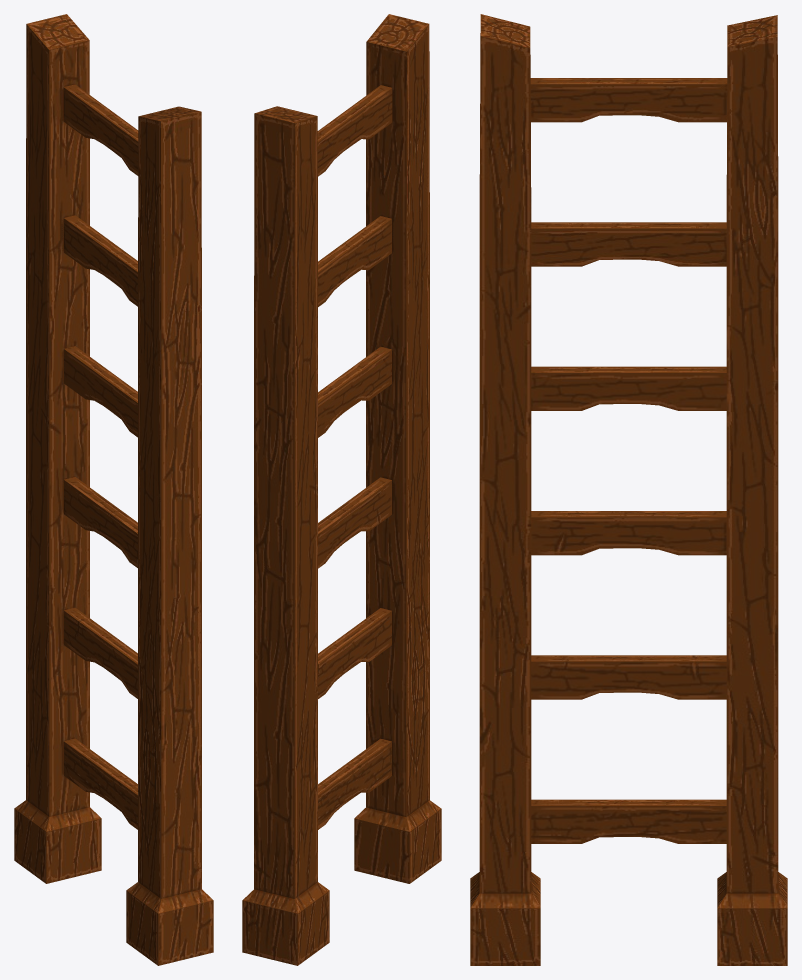
File: Escaleras.glb
The picture shows the model from 3 angles, left to right: view 1: azimuth 30°, elevation 25°; view 2: azimuth 150°, elevation 25°; view 3: azimuth 270°, elevation 25°; orthographic projection. The views are drawn at different scales.
Visible parts, largest first — view 1: Stylized_Ladder_Low:Stylized_Ladder; view 2: Stylized_Ladder_Low:Stylized_Ladder; view 3: Stylized_Ladder_Low:Stylized_Ladder.
Boxes of the visible parts, x1=… form: Stylized_Ladder_Low:Stylized_Ladder: x1=14, y1=14, x2=213, y2=965; Stylized_Ladder_Low:Stylized_Ladder: x1=242, y1=14, x2=441, y2=965; Stylized_Ladder_Low:Stylized_Ladder: x1=470, y1=14, x2=787, y2=965.
Size of the model in its own units: 0.1381 by 2 by 0.6216.
Materials: 1 (1 with a texture image).
